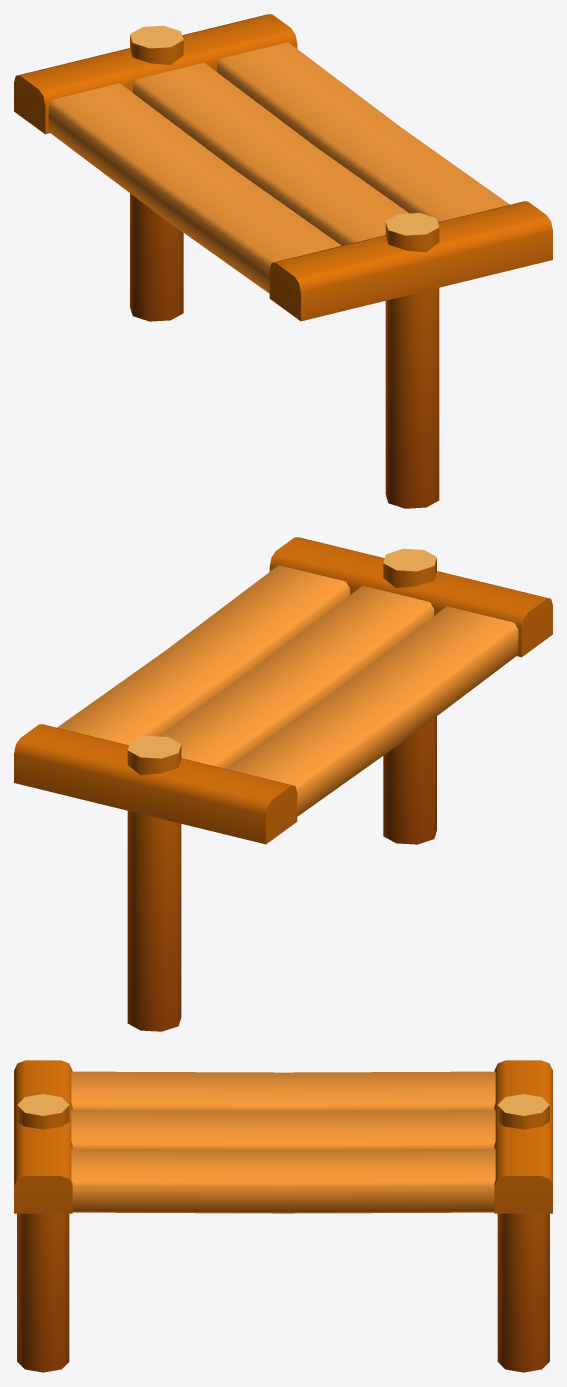
Rendered from Props_Wooden_Bridge_01_B.fbx.
3 views of the same model, one above another, from view 1: azimuth 30°, elevation 25°; view 2: azimuth 150°, elevation 25°; view 3: azimuth 270°, elevation 25° (orthographic). The views are drawn at different scales.
Visible parts, largest first — view 1: Props_Wooden_Bridge_01_B; view 2: Props_Wooden_Bridge_01_B; view 3: Props_Wooden_Bridge_01_B.
Part boxes in pixels (x1,y1,x2,y2): Props_Wooden_Bridge_01_B: (14, 14, 552, 508); Props_Wooden_Bridge_01_B: (14, 537, 552, 1031); Props_Wooden_Bridge_01_B: (14, 1060, 552, 1372).
Size of the model in its own units: 200 by 207 by 394.
